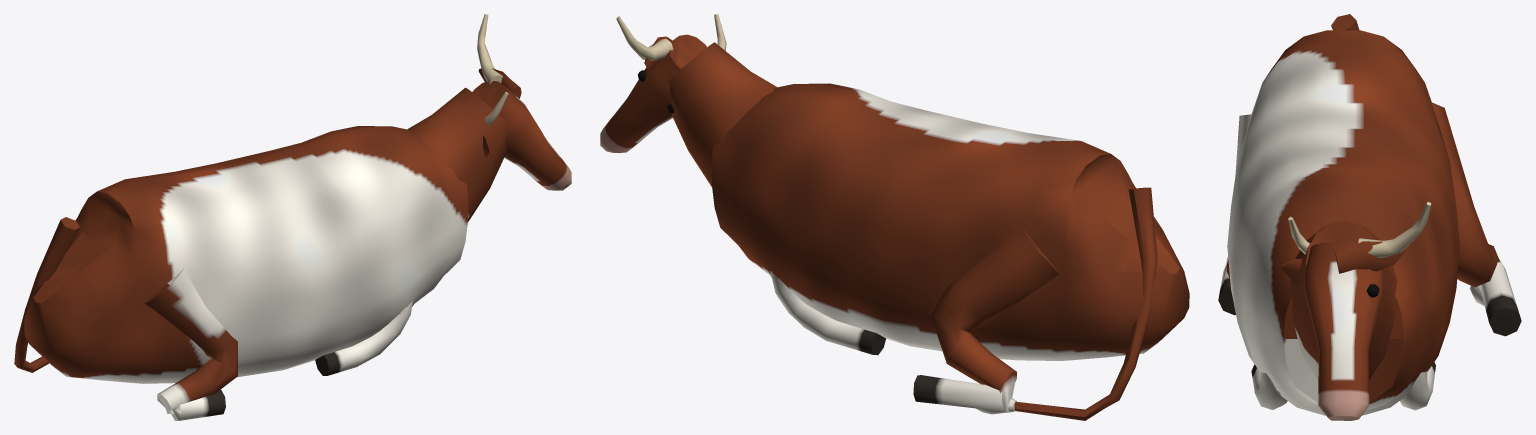
Rendered from tpl_life_herd_1750_cattle_redpied_lie_h.glb.
3 views of the same model, side by side, from view 1: azimuth 30°, elevation 25°; view 2: azimuth 150°, elevation 25°; view 3: azimuth 270°, elevation 25° (orthographic). The views are drawn at different scales.
Parts seen in each view (by area): view 1: tpl_life_herd_1750_cattle_redpied_lie_h; view 2: tpl_life_herd_1750_cattle_redpied_lie_h; view 3: tpl_life_herd_1750_cattle_redpied_lie_h.
Part boxes in pixels (<box>): tpl_life_herd_1750_cattle_redpied_lie_h: <box>14,14,571,420</box>; tpl_life_herd_1750_cattle_redpied_lie_h: <box>600,14,1189,420</box>; tpl_life_herd_1750_cattle_redpied_lie_h: <box>1218,14,1521,420</box>.
Bounding box in the file's own units: 2.32 × 1.08 × 0.9187.
3 materials, 1 textured.
